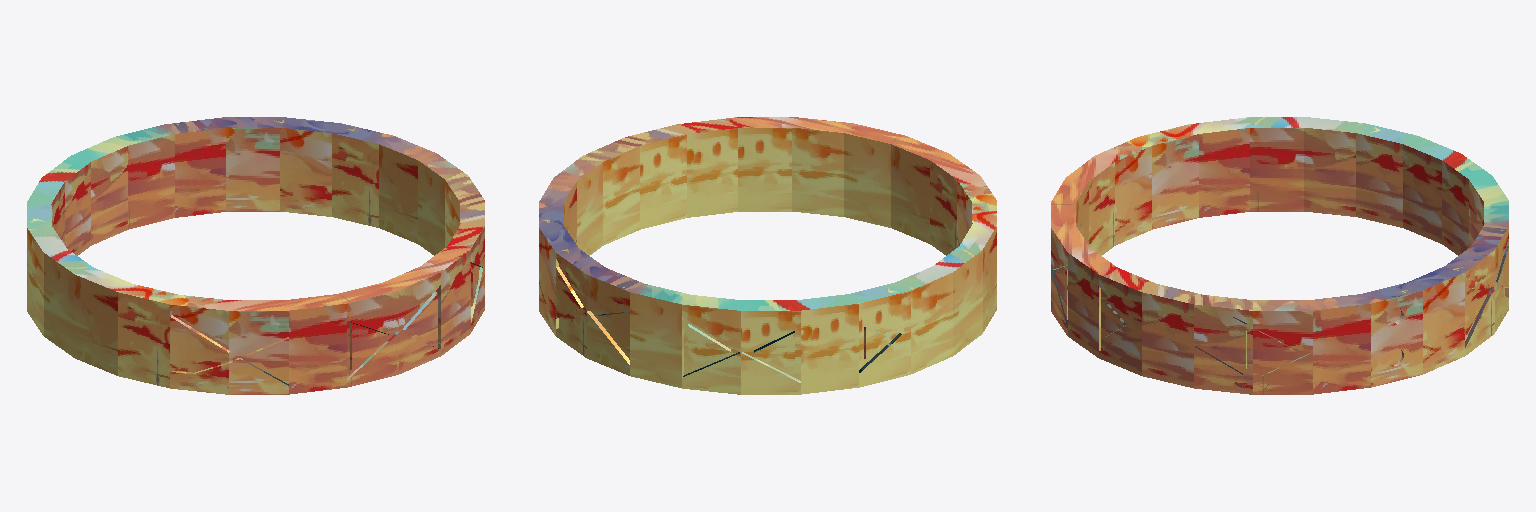
3 renders of one model, left to right at view 1: azimuth 30°, elevation 25°; view 2: azimuth 150°, elevation 25°; view 3: azimuth 270°, elevation 25°, orthographic.
Visible parts, largest first — view 1: 3d-model; view 2: 3d-model; view 3: 3d-model.
Boxes of the visible parts, x1=… form: 3d-model: x1=27, y1=117, x2=484, y2=394; 3d-model: x1=539, y1=117, x2=996, y2=394; 3d-model: x1=1051, y1=117, x2=1508, y2=394.
Bounding box in the file's own units: 4.96 × 1 × 4.96.
1 materials, 1 textured.